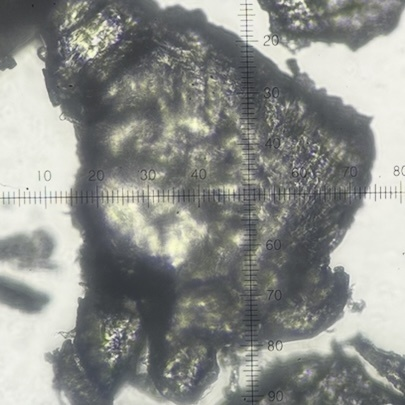microplastic: (37, 1, 381, 405), (215, 340, 405, 404), (75, 278, 147, 405), (257, 1, 405, 55), (42, 338, 115, 405), (345, 333, 405, 394), (1, 227, 60, 272), (1, 274, 53, 312), (1, 54, 18, 72)
